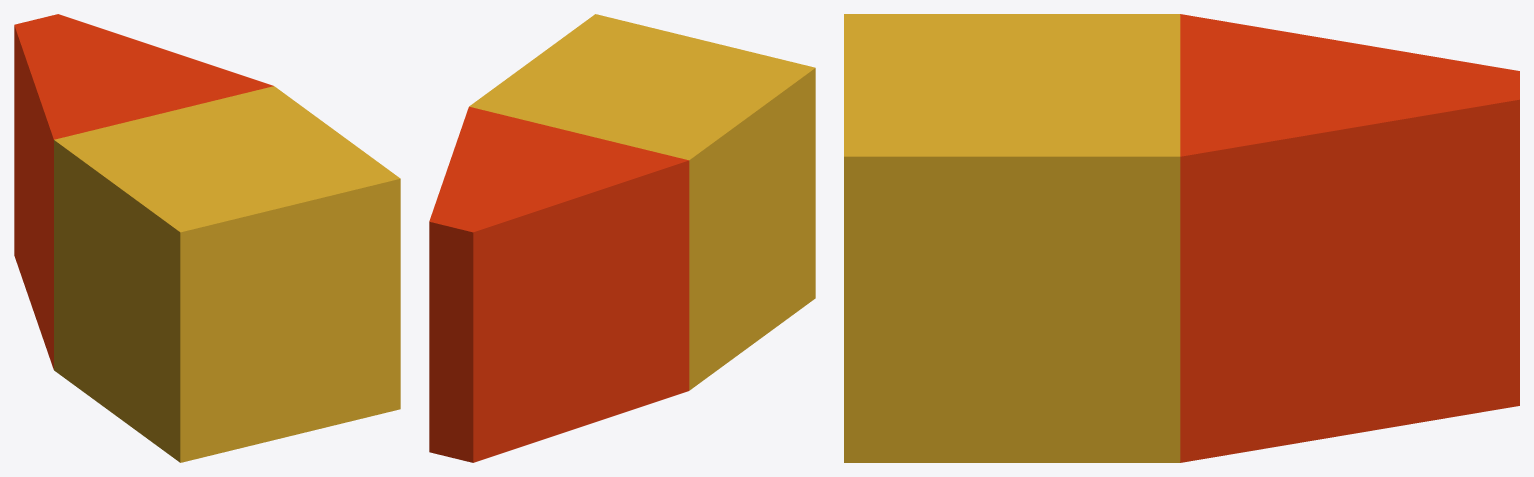
Rendered from player_model.fbx.
The picture shows the model from 3 angles, left to right: view 1: azimuth 30°, elevation 25°; view 2: azimuth 150°, elevation 25°; view 3: azimuth 270°, elevation 25°; orthographic projection. The views are drawn at different scales.
Parts seen in each view (by area): view 1: Cube; view 2: Cube; view 3: Cube.
Part boxes in pixels (box(x1,y1,x2,y2)): Cube: box(14, 14, 400, 462); Cube: box(429, 14, 815, 462); Cube: box(844, 14, 1519, 462).
Bounding box in the file's own units: 200 × 200 × 400.
